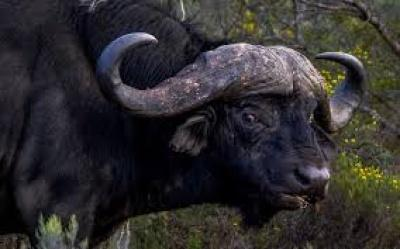buffalo: (0, 0, 364, 244)
